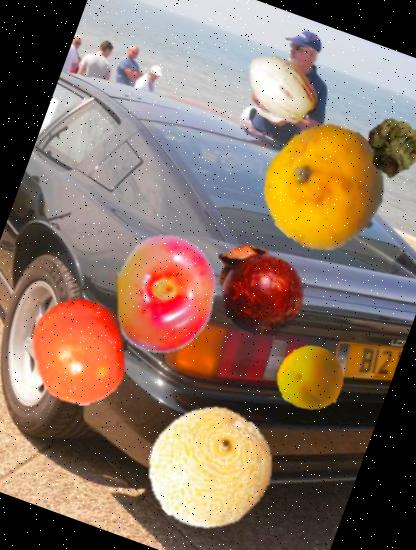Cantaloupe: (128, 388, 290, 548)
Cauliflower: (356, 107, 416, 184)
Cherry: (86, 215, 244, 373)
Clementine: (12, 283, 150, 421)
Lemon: (246, 108, 408, 269)
Mangostan: (198, 226, 324, 353)
Peach: (267, 336, 354, 423)
Pepino: (230, 36, 330, 136)
